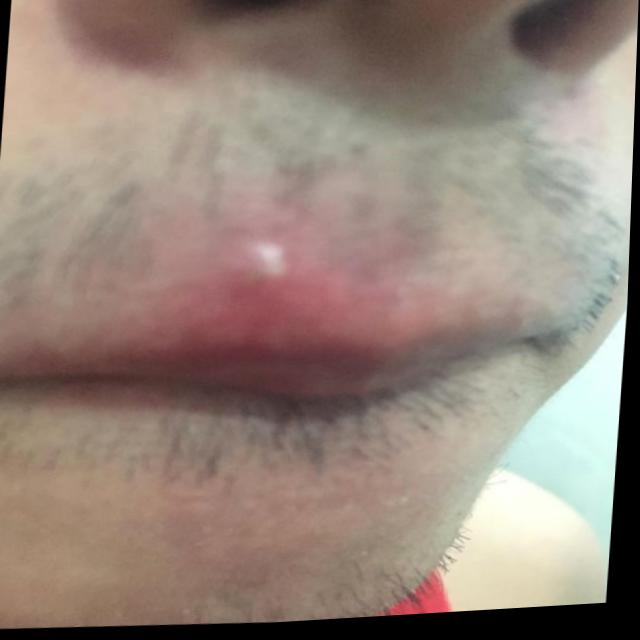Acne: (213, 228, 301, 294)
